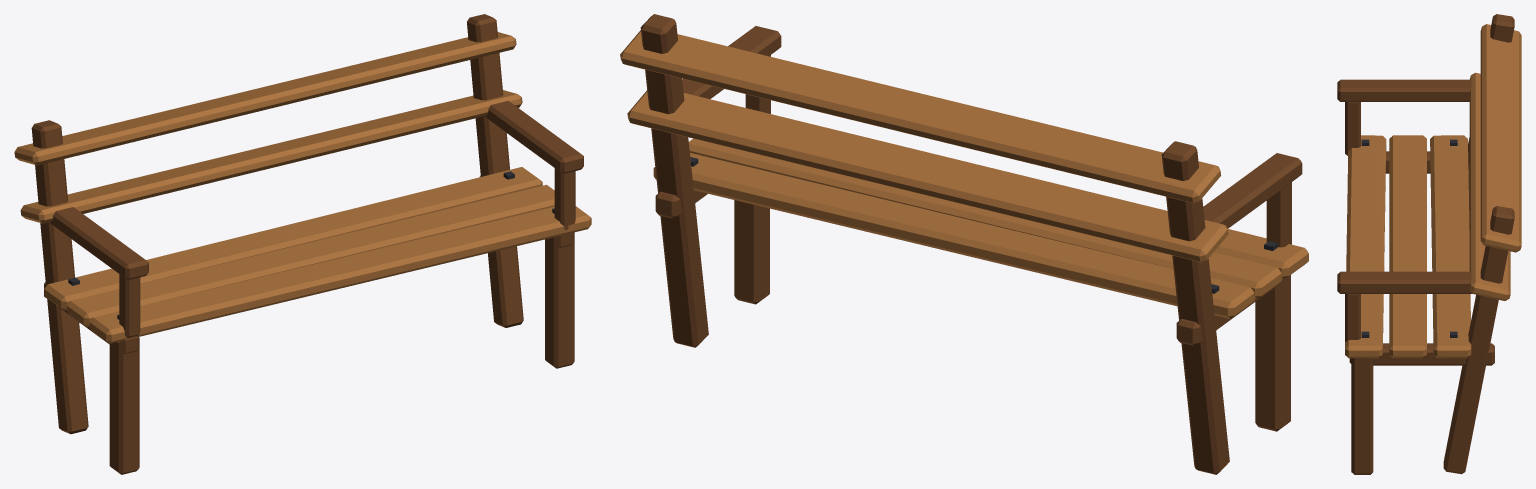
Rendered from Prop_ParkBench.fbx.
The picture shows the model from 3 angles, left to right: view 1: azimuth 30°, elevation 25°; view 2: azimuth 150°, elevation 25°; view 3: azimuth 270°, elevation 25°; orthographic projection. The views are drawn at different scales.
Parts seen in each view (by area): view 1: Prop_ParkBench; view 2: Prop_ParkBench; view 3: Prop_ParkBench.
Part boxes in pixels (x1,y1,x2,y2): Prop_ParkBench: [14, 14, 591, 474]; Prop_ParkBench: [620, 14, 1308, 474]; Prop_ParkBench: [1337, 14, 1521, 474].
Size of the model in its own units: 1.6 by 0.9174 by 0.585.
